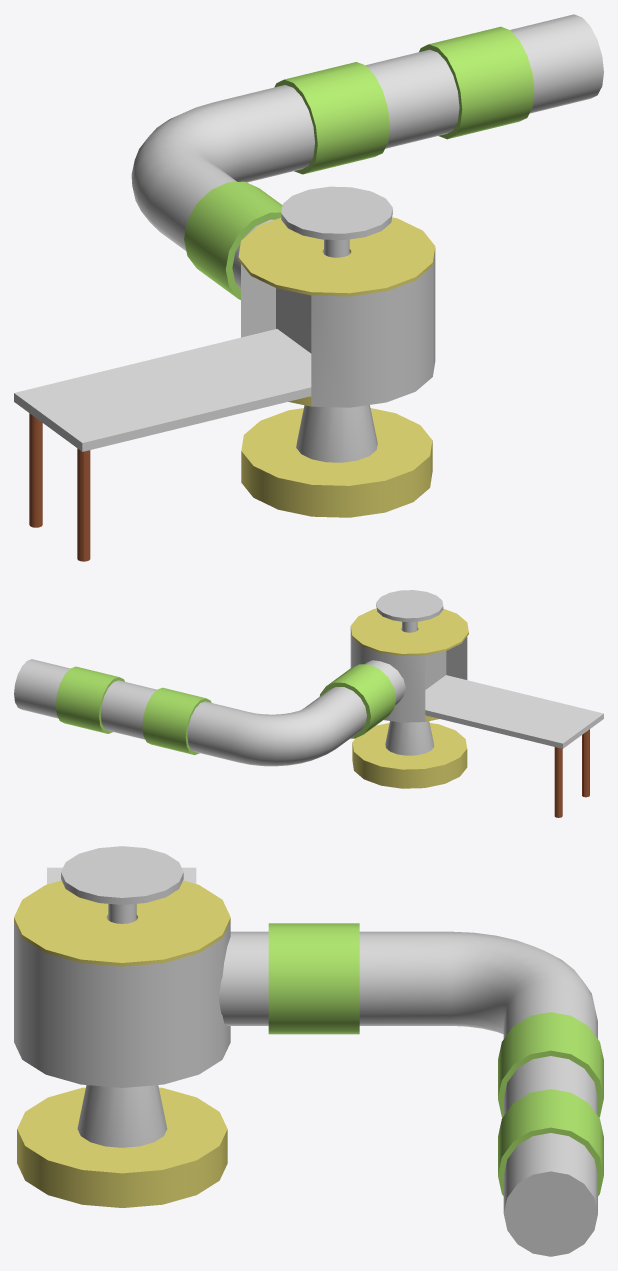
Rendered from plastic_machine.fbx.
The picture shows the model from 3 angles, top to bottom: view 1: azimuth 30°, elevation 25°; view 2: azimuth 150°, elevation 25°; view 3: azimuth 270°, elevation 25°; orthographic projection. The views are drawn at different scales.
Visible parts, largest first — view 1: Cylinder.006; view 2: Cylinder.006; view 3: Cylinder.006.
Part boxes in pixels (left/top/right/bottom): Cylinder.006: left=14, top=14, right=603, bottom=561; Cylinder.006: left=14, top=590, right=603, bottom=817; Cylinder.006: left=14, top=846, right=603, bottom=1256.
Size of the model in its own units: 212 by 73.91 by 136.
